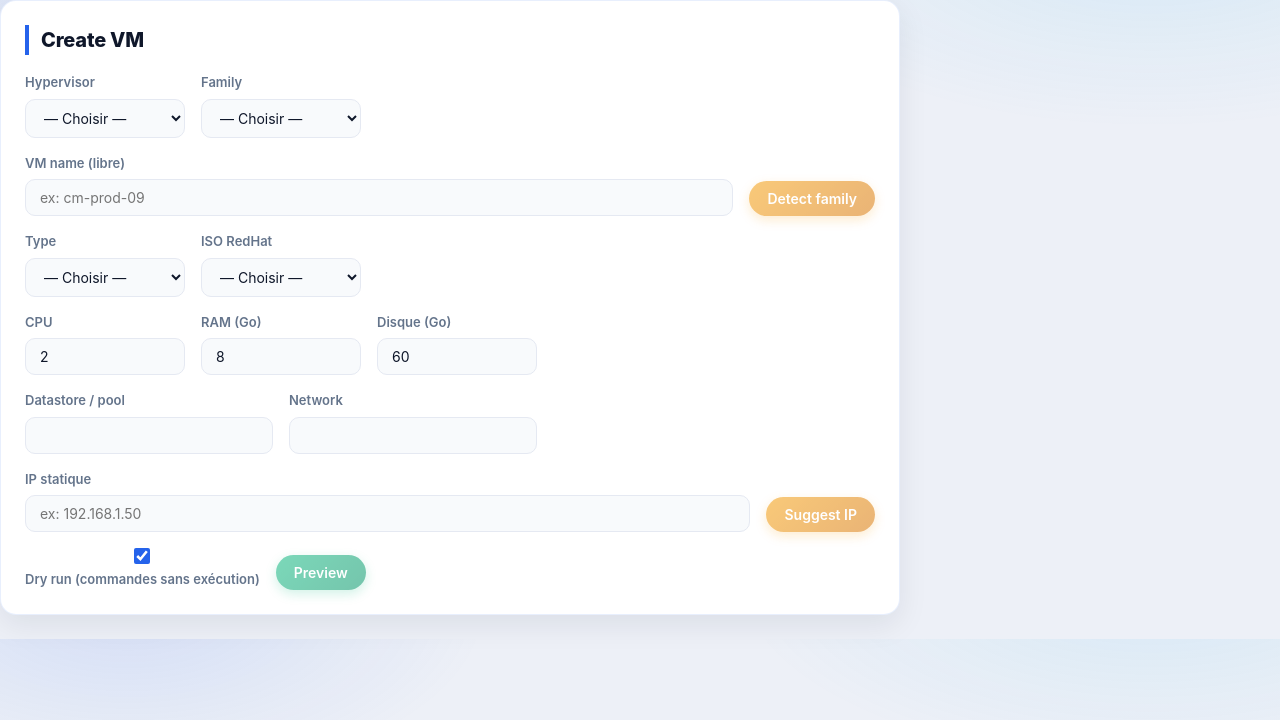
Test: CreatePage › pré-remplit le formulaire au choix de l hyperviseur
The width and height of the screenshot is (1280, 720).
Select "esx-08 (esxi)" in the dropdown labelled "Hypervisor" at [105, 118], box [25,98,185,138]
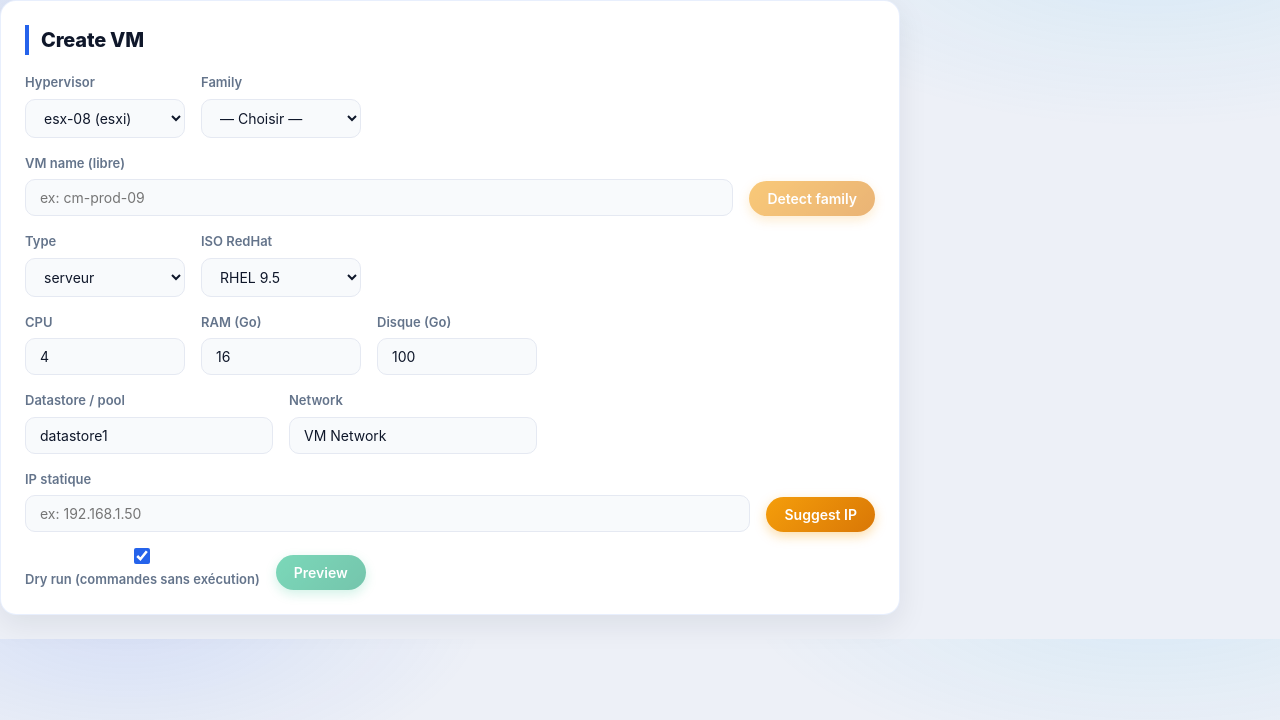
expect the number field showing "4" is shown: met, box [25,338,185,375]
expect the field showing "datastore1" is shown: met, box [25,416,273,454]
expect the field showing "VM Network" is shown: met, box [289,416,537,454]
